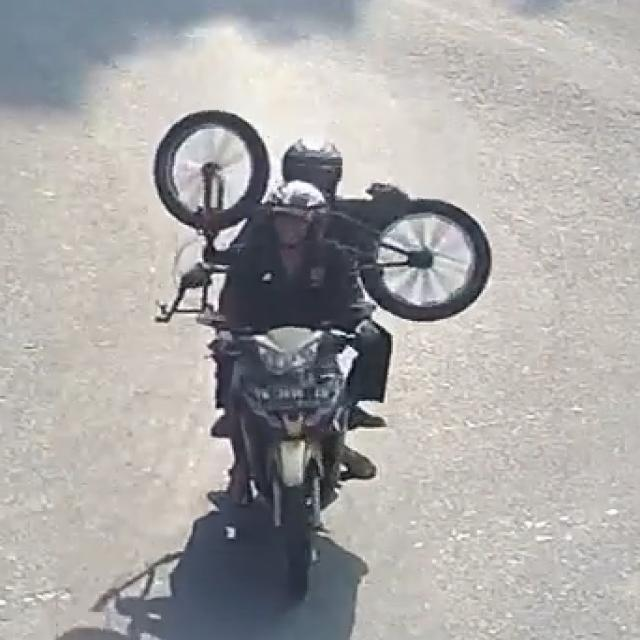helm: (254, 176, 334, 261), (278, 134, 346, 203)
motor: (142, 97, 496, 602)
